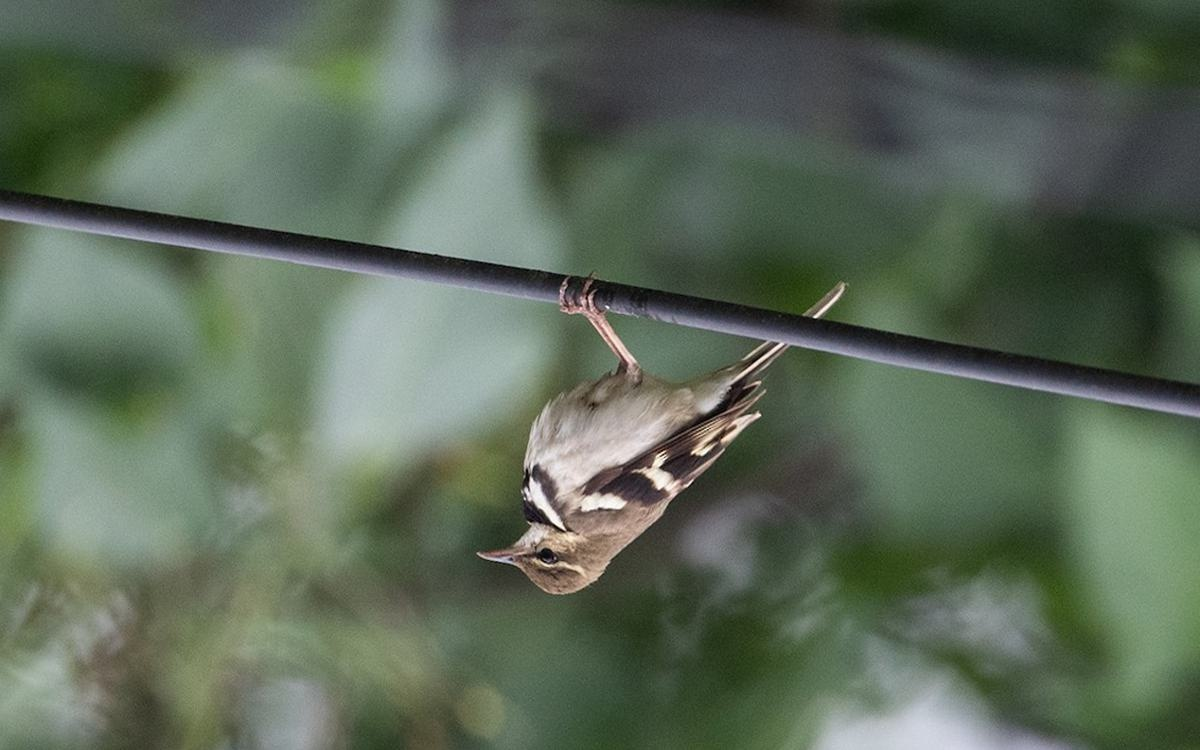wagtail: (490, 279, 849, 632)
